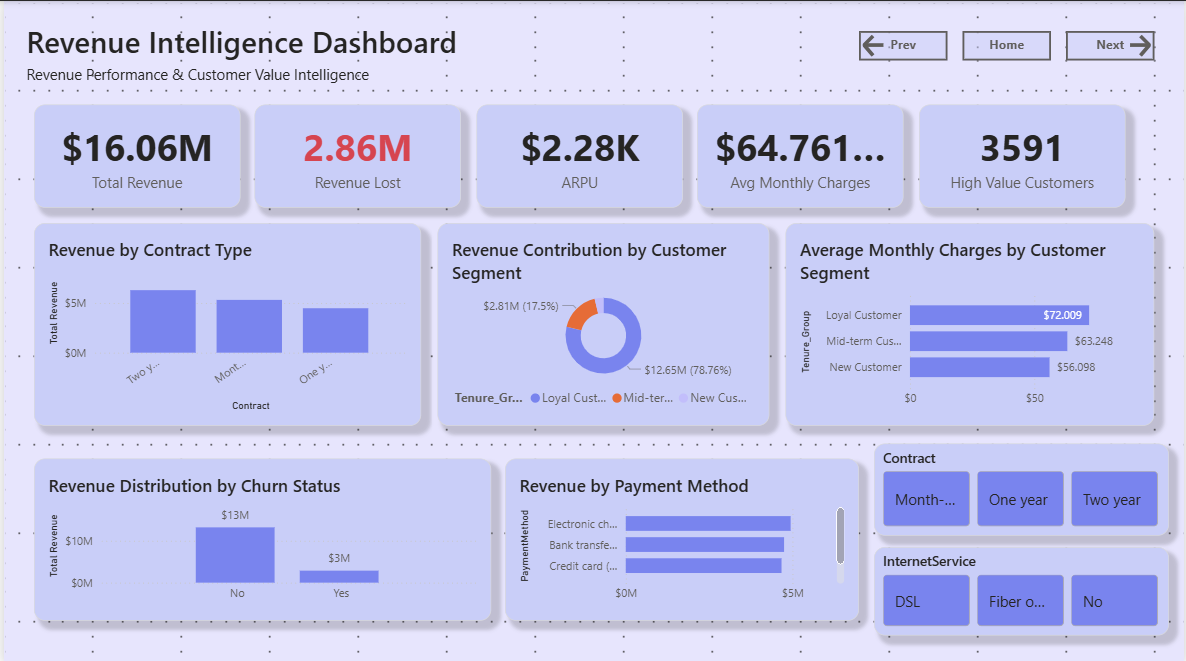

This screenshot's page, from the dashboard's own definition file:
{"tool":"powerbi","page":{"name":"Revenue Intelligence ","canvas":[1280,720],"ordinal":3},"visuals":[{"type":"textbox","box":[20,16,544,64],"z":0},{"type":"textbox","box":[20,64,496,32],"z":1000},{"type":"card","fields":{"Values":["fact_churn.Total Revenue"]},"box":[32,112,224,112],"z":2000},{"type":"card","fields":{"Values":["fact_churn.Revenue Lost"]},"box":[272,112,224,112],"z":3000},{"type":"card","fields":{"Values":["fact_churn.ARPU"]},"box":[512,112,224,112],"z":4000},{"type":"card","fields":{"Values":["fact_churn.Avg Monthly Charges"]},"box":[752,112,224,112],"z":5000},{"type":"card","fields":{"Values":["fact_churn.High Value Customers"]},"box":[992,112,224,112],"z":6000},{"type":"clusteredColumnChart","title":"Revenue by Contract Type","fields":{"Category":["dim_contract.Contract"],"Y":["fact_churn.Total Revenue"]},"box":[32,240,420,220],"z":7000},{"type":"donutChart","title":"Revenue Contribution by Customer Segment","fields":{"Category":["fact_churn.Tenure_Group"],"Y":["fact_churn.Total Revenue"]},"box":[470,240,360,220],"z":8000},{"type":"clusteredBarChart","title":"Average Monthly Charges by Customer Segment","fields":{"Category":["fact_churn.Tenure_Group"],"Y":["fact_churn.Avg Monthly Charges"]},"box":[848,240,400,220],"z":9000},{"type":"clusteredColumnChart","title":"Revenue Distribution by Churn Status","fields":{"Category":["fact_churn.Churn"],"Y":["fact_churn.Total Revenue"]},"box":[32,496,496,176],"z":10000},{"type":"clusteredBarChart","title":"Revenue by Payment Method","fields":{"Y":["fact_churn.Total Revenue"],"Category":["dim_payment.PaymentMethod"]},"box":[544,496,384,176],"z":11000},{"type":"advancedSlicerVisual","fields":{"Values":["dim_contract.Contract"]},"box":[944,480,320,100],"z":12000},{"type":"advancedSlicerVisual","fields":{"Values":["dim_internet_service.InternetService"]},"box":[944,592,320,96],"z":13000},{"type":"actionButton","box":[1152,32,96,32],"z":14000},{"type":"actionButton","box":[1040,32,96,32],"z":15000},{"type":"actionButton","box":[928,32,96,32],"z":16000}]}

Visuals, with their boxes in screenshot pixels (x1, y1, x2, y2), scaled from the page's 1280x720 canvas onto the 1186x661 screenshot:
textbox: BBox(19, 15, 523, 73)
textbox: BBox(19, 59, 478, 88)
card - fact_churn.Total Revenue: BBox(30, 103, 237, 206)
card - fact_churn.Revenue Lost: BBox(252, 103, 460, 206)
card - fact_churn.ARPU: BBox(474, 103, 682, 206)
card - fact_churn.Avg Monthly Charges: BBox(697, 103, 904, 206)
card - fact_churn.High Value Customers: BBox(919, 103, 1127, 206)
"Revenue by Contract Type" clusteredColumnChart: BBox(30, 220, 419, 422)
"Revenue Contribution by Customer Segment" donutChart: BBox(435, 220, 769, 422)
"Average Monthly Charges by Customer Segment" clusteredBarChart: BBox(786, 220, 1156, 422)
"Revenue Distribution by Churn Status" clusteredColumnChart: BBox(30, 455, 489, 617)
"Revenue by Payment Method" clusteredBarChart: BBox(504, 455, 860, 617)
advancedSlicerVisual - dim_contract.Contract: BBox(875, 441, 1171, 532)
advancedSlicerVisual - dim_internet_service.InternetService: BBox(875, 543, 1171, 632)
actionButton: BBox(1067, 29, 1156, 59)
actionButton: BBox(964, 29, 1053, 59)
actionButton: BBox(860, 29, 949, 59)
